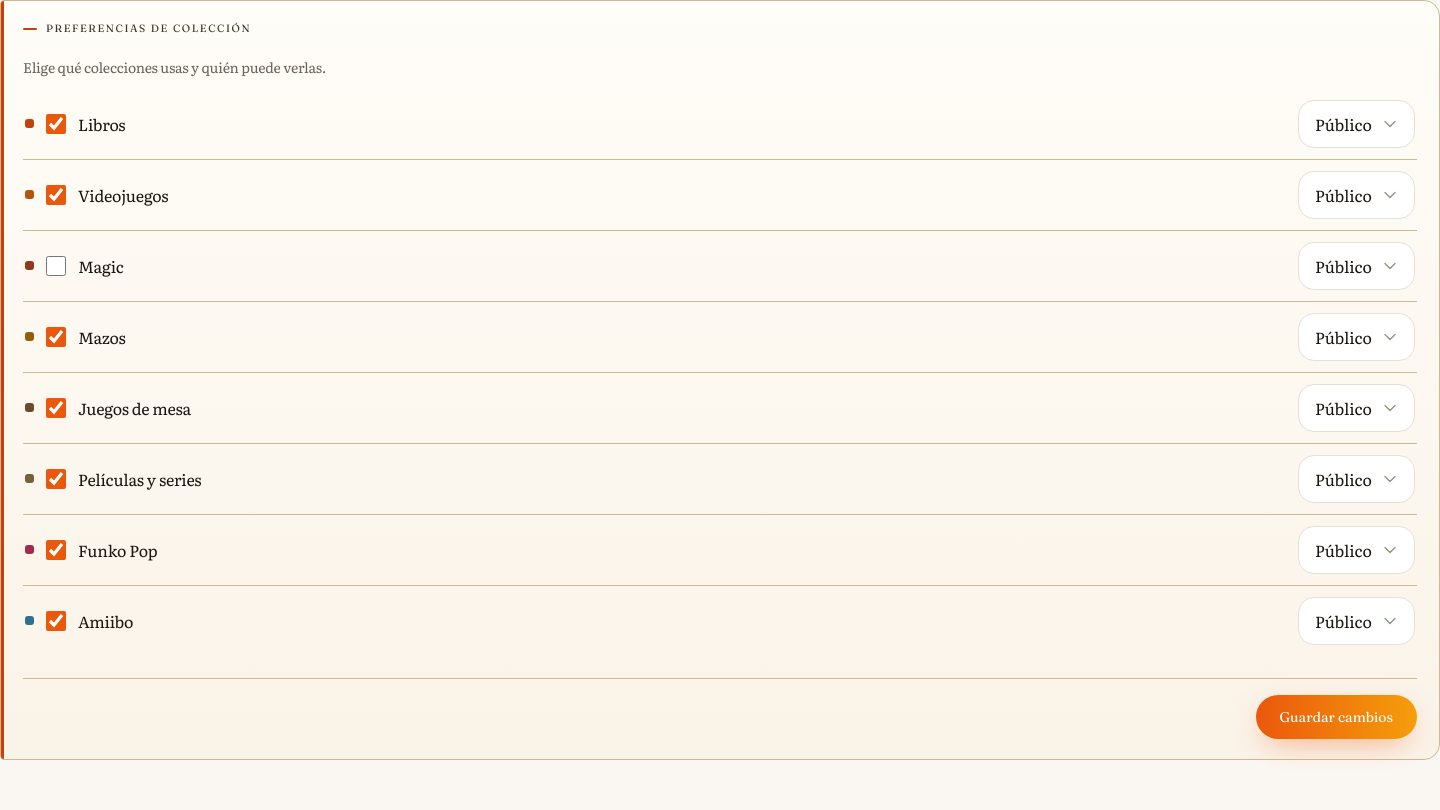
Test: CollectionPreferencesPanel › guarda activos y visibilidad y muestra éxito
Click the checkbox labelled "Magic": (56, 266) [46,256,66,276]
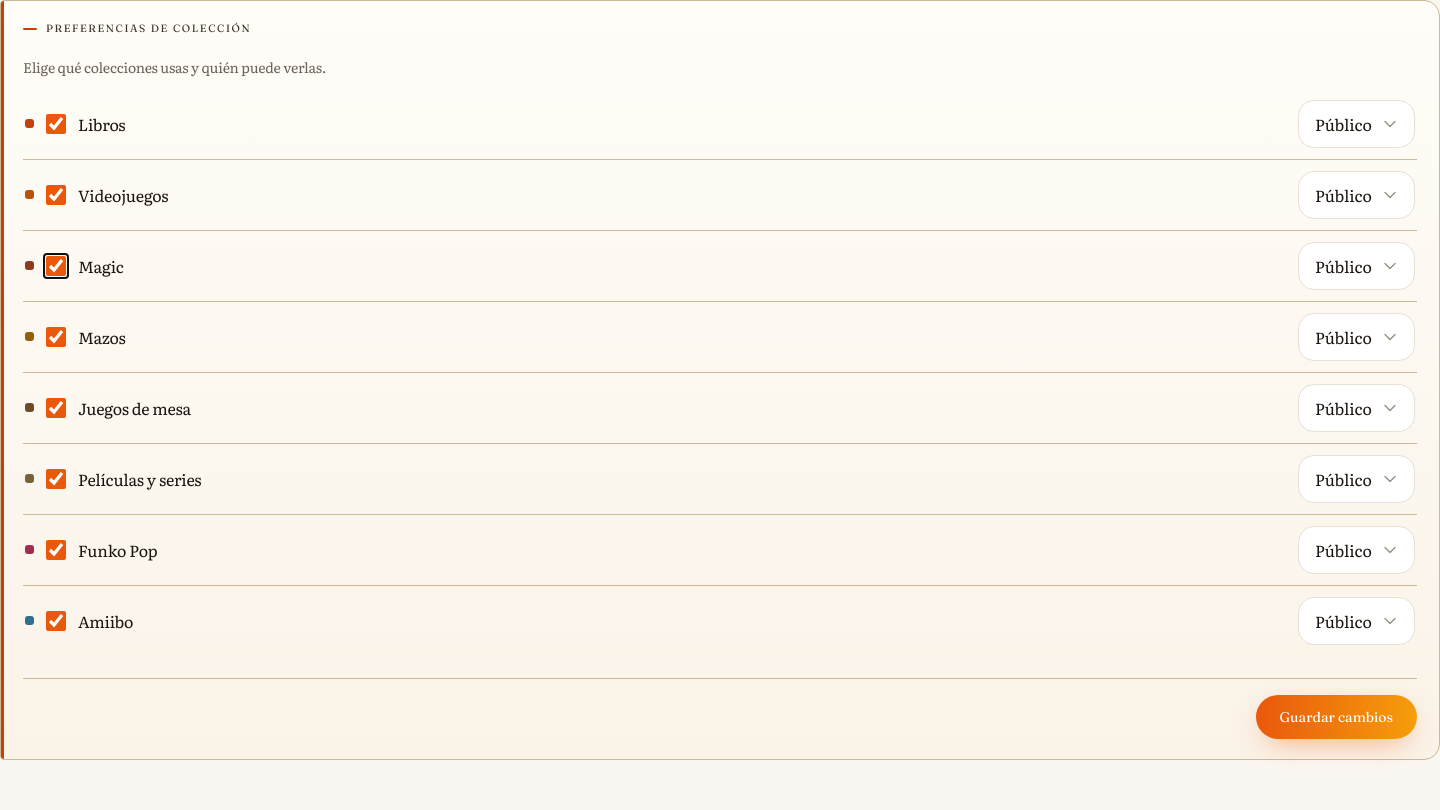
Click the button "Guardar cambios": (1336, 717) [1256,695,1417,739]
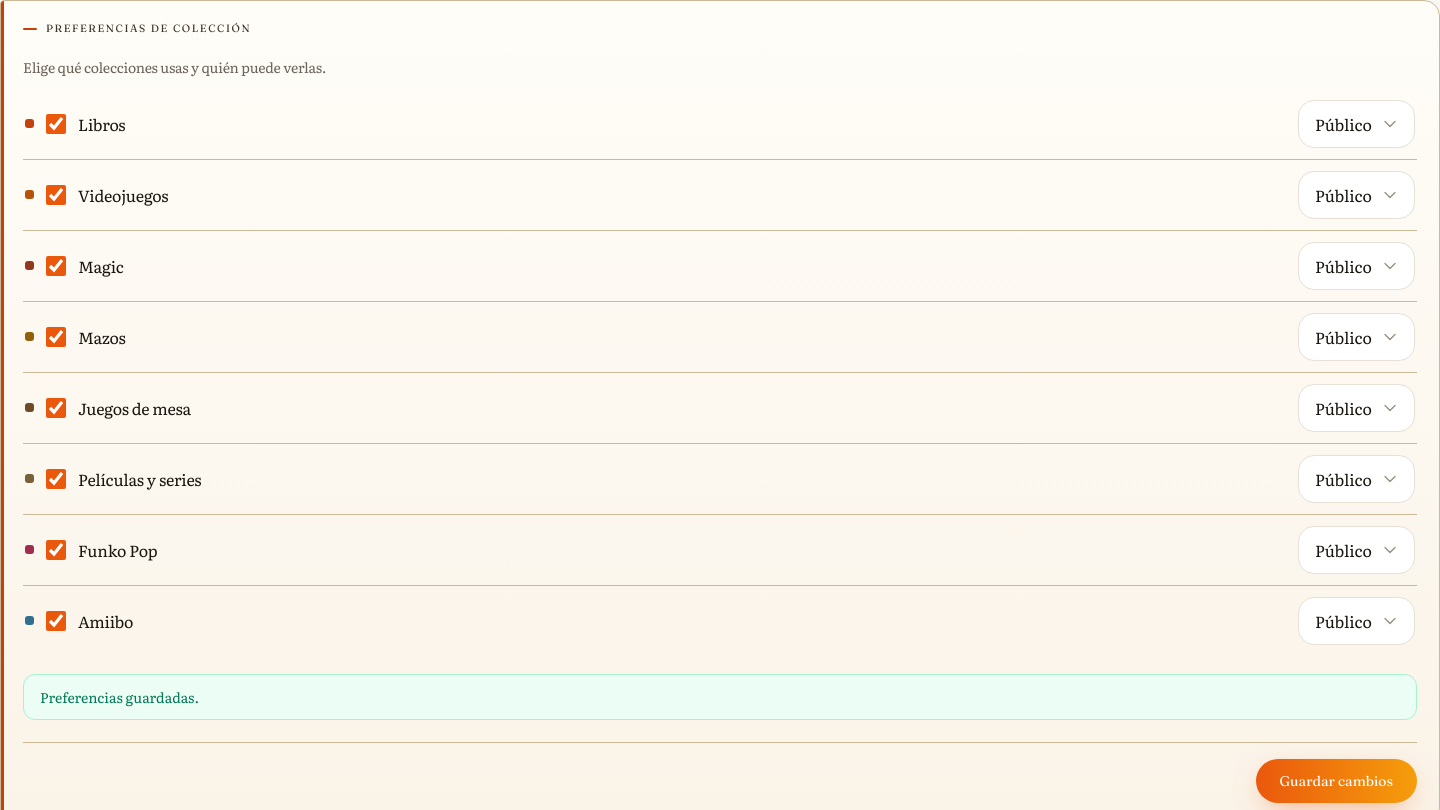
Now the text "Preferencias guardadas." is shown, box [23,674,1417,720]
